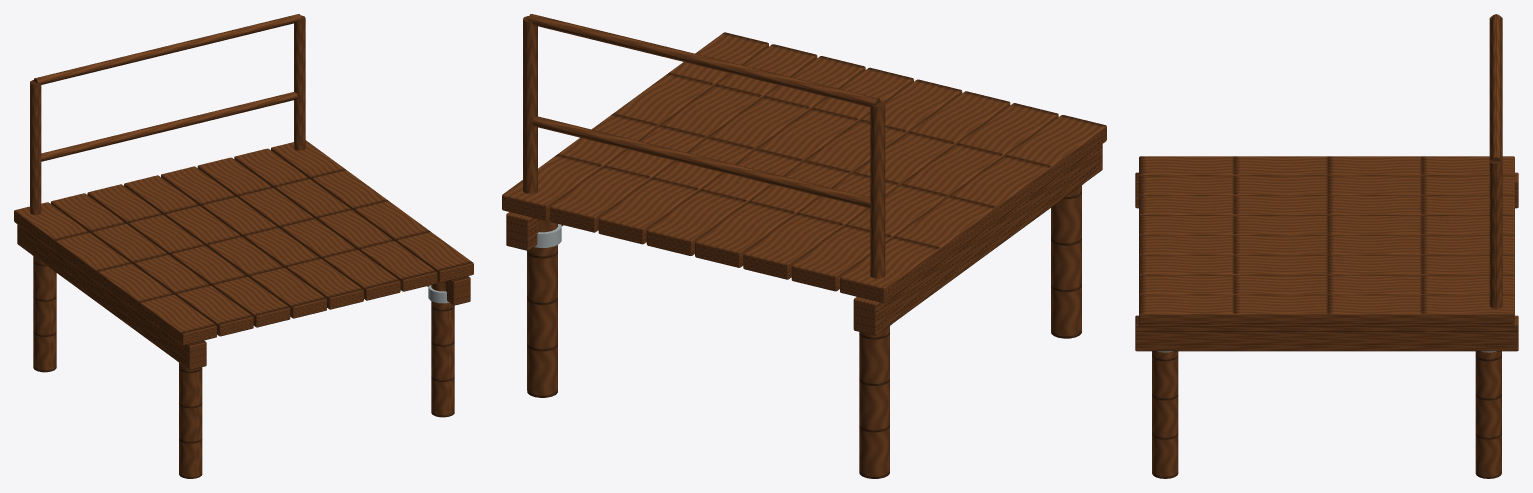
File: flooded-and-coastal-survival-boardwalk-junction-0d2fd94c__20039.glb
3 renders of one model, left to right at view 1: azimuth 30°, elevation 25°; view 2: azimuth 150°, elevation 25°; view 3: azimuth 270°, elevation 25°, orthographic. The views are drawn at different scales.
Parts seen in each view (by area): view 1: boardwalk-junction; view 2: boardwalk-junction; view 3: boardwalk-junction.
Boxes of the visible parts, x1=… form: boardwalk-junction: x1=14, y1=14, x2=473, y2=478; boardwalk-junction: x1=502, y1=14, x2=1106, y2=478; boardwalk-junction: x1=1135, y1=14, x2=1518, y2=478.
Bounding box in the file's own units: 1.99 × 1.87 × 2.04.
Materials: 2 (1 with a texture image).
